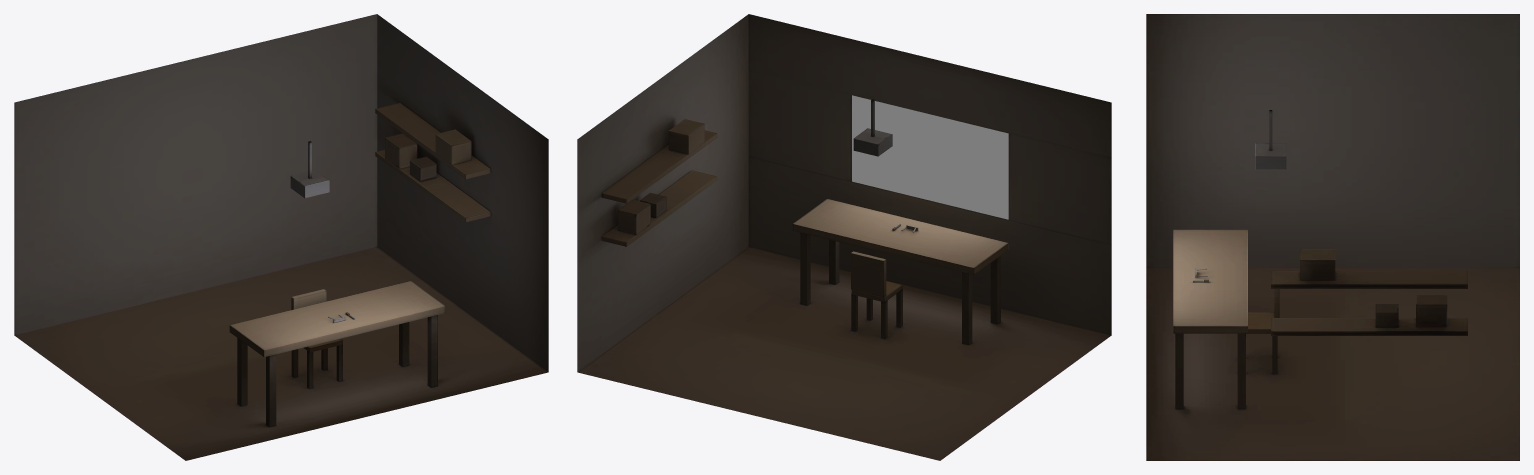
File: era_spectacles.glb
The picture shows the model from 3 angles, left to right: view 1: azimuth 30°, elevation 25°; view 2: azimuth 150°, elevation 25°; view 3: azimuth 270°, elevation 25°; orthographic projection. The views are drawn at different scales.
Parts seen in each view (by area): view 1: CH_era_spectacles_static; view 2: CH_era_spectacles_static; view 3: CH_era_spectacles_static.
Boxes of the visible parts, x1,y1,x2,y2 form: CH_era_spectacles_static: [14, 14, 548, 460]; CH_era_spectacles_static: [577, 14, 1111, 460]; CH_era_spectacles_static: [1146, 14, 1519, 460].
Bounding box in the file's own units: 4.4 × 2.7 × 3.66.
1 material, 1 textured.
